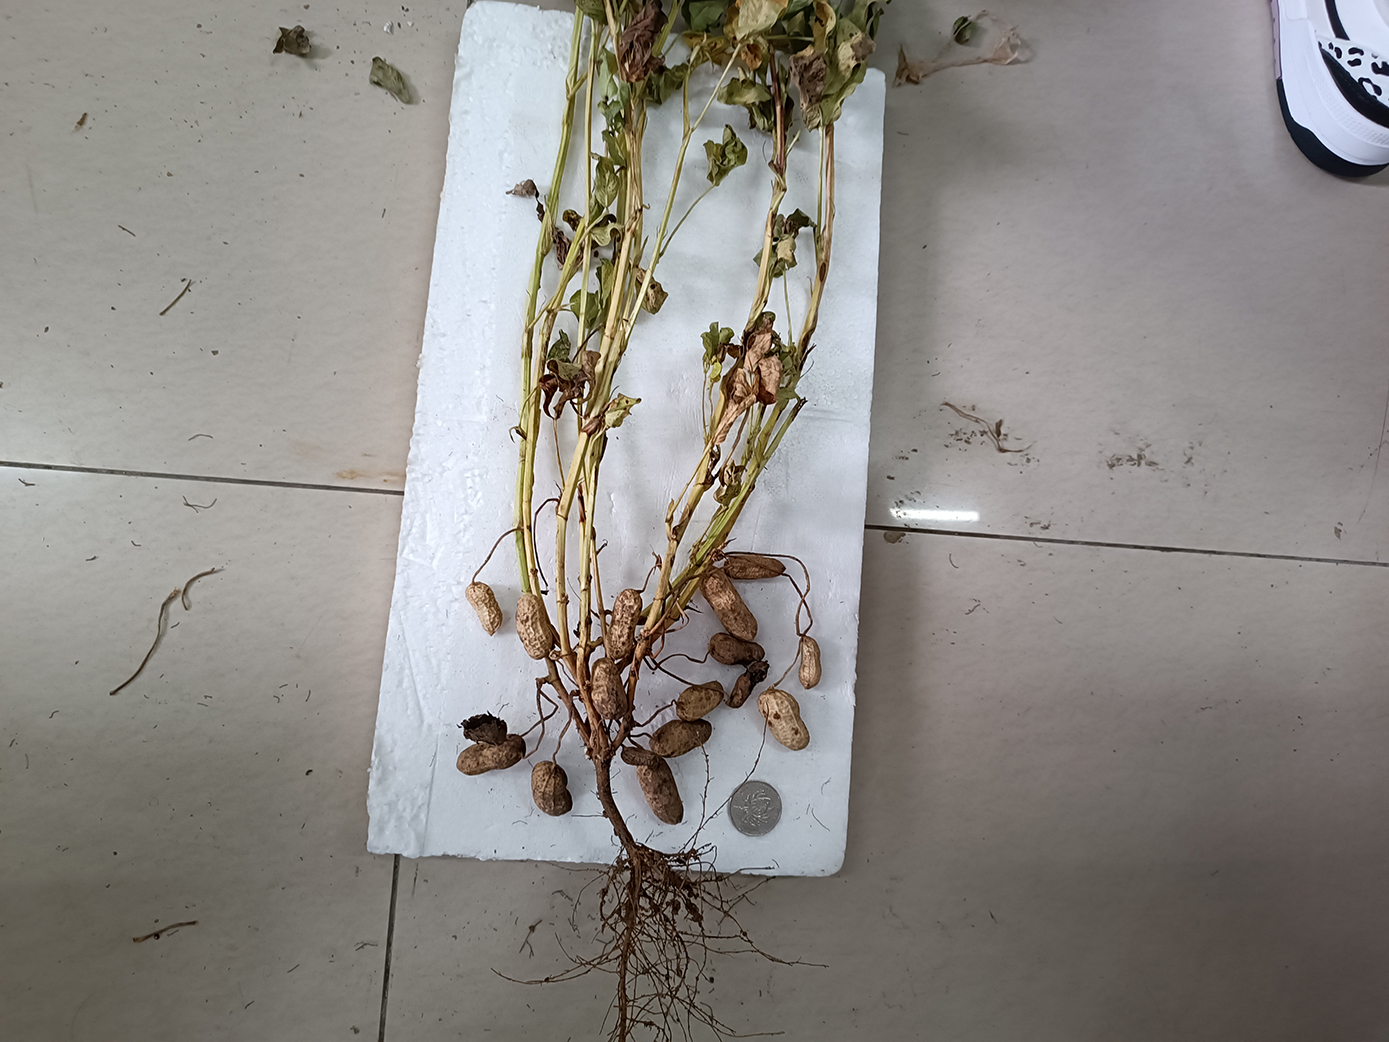h: (701, 567, 759, 641), (759, 688, 810, 750), (516, 594, 553, 661), (531, 760, 572, 817), (590, 657, 626, 719), (464, 582, 503, 637), (675, 680, 724, 722), (798, 636, 822, 690)
l: (637, 757, 684, 825), (456, 733, 526, 776), (606, 588, 643, 659), (650, 719, 713, 759), (726, 661, 769, 709), (708, 632, 766, 664), (458, 710, 507, 746), (724, 555, 786, 580), (621, 746, 660, 765)
